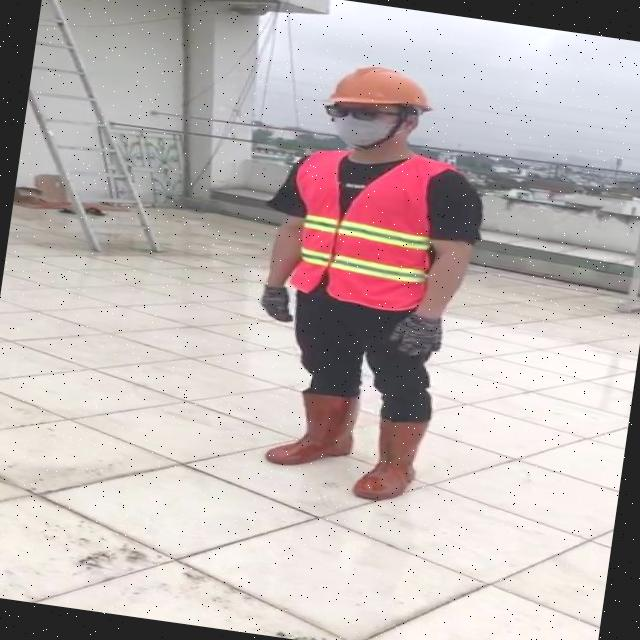boots: (262, 387, 362, 478), (352, 410, 434, 507)
